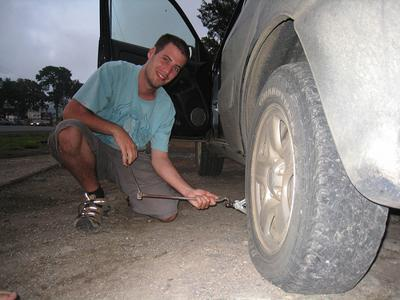person: (43, 33, 221, 234)
